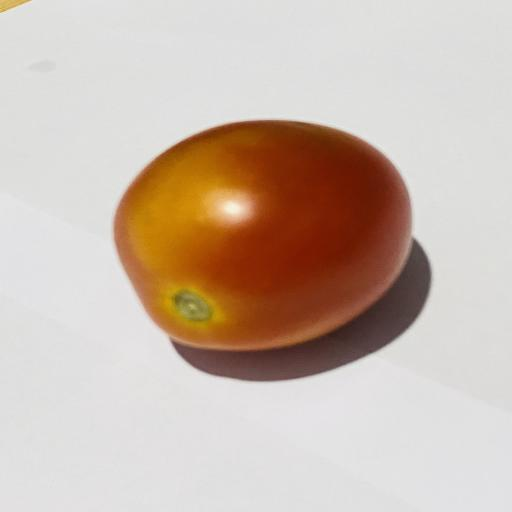ripe: (114, 120, 412, 350)
